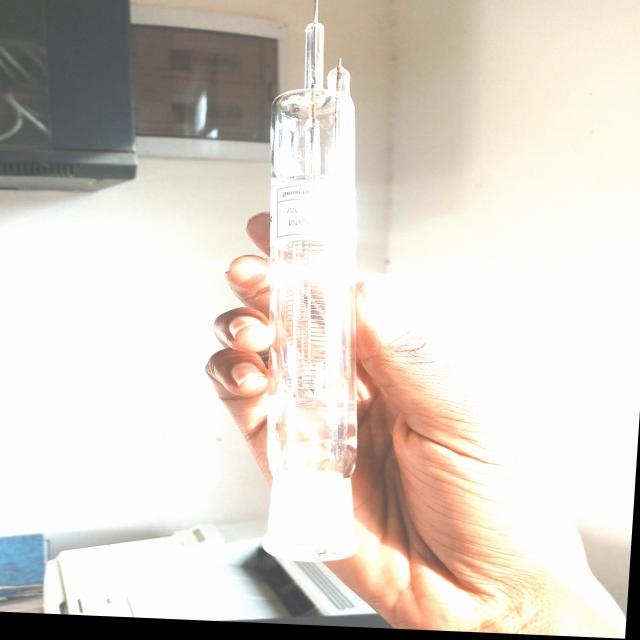Helium Lamp: (252, 0, 384, 561)
